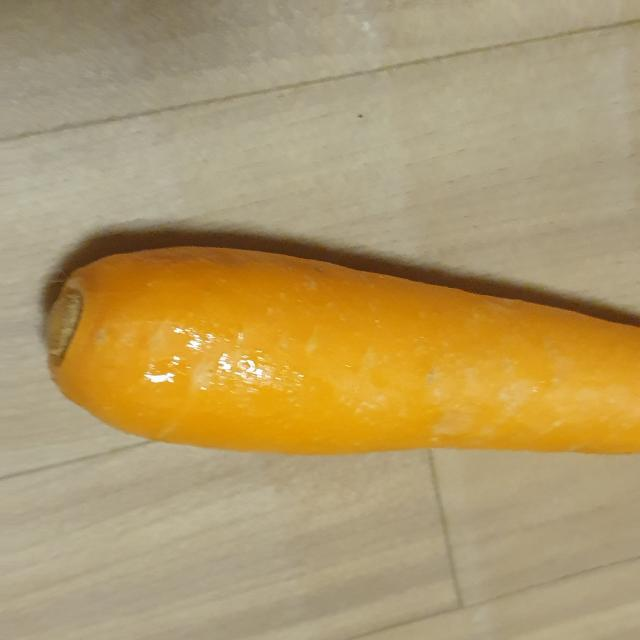carrot: (37, 239, 640, 463)
